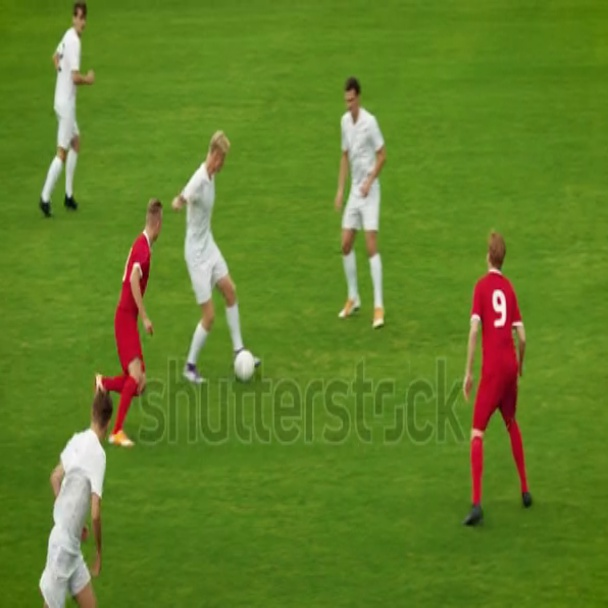ball: (230, 343, 260, 389)
